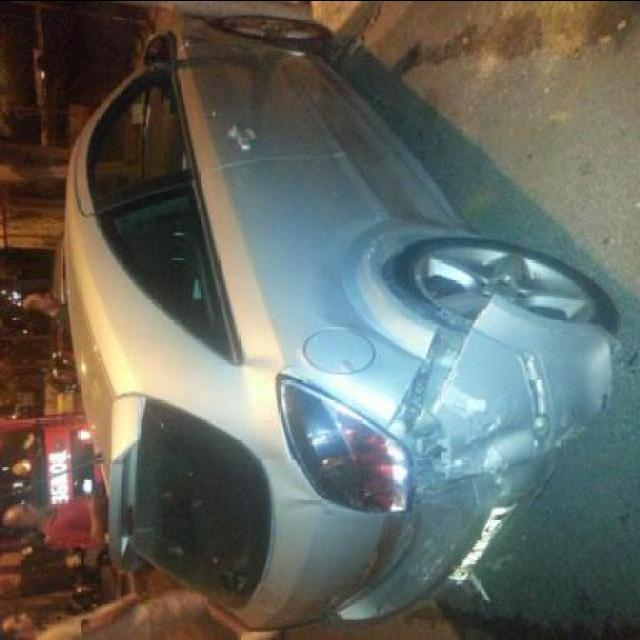rear-bumper-dent: (388, 277, 624, 640)
